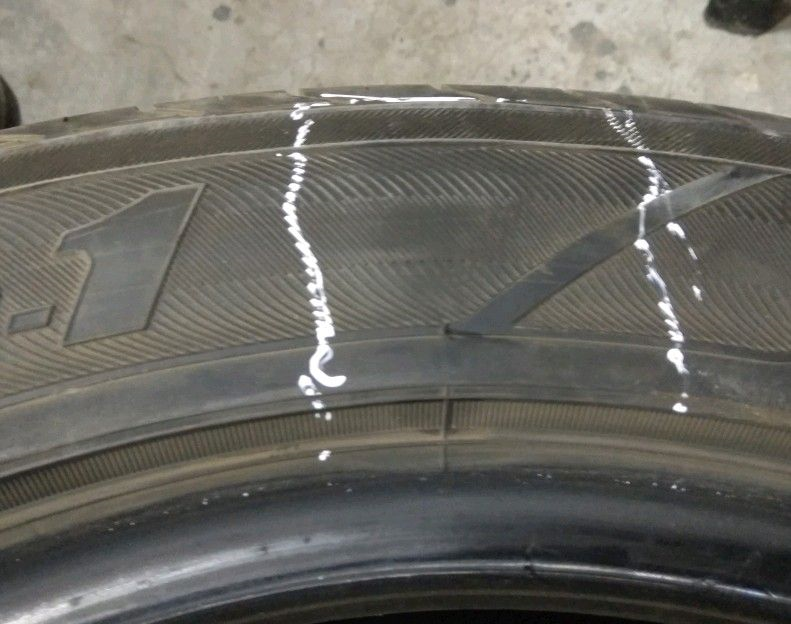CBU: (371, 137, 571, 445)
